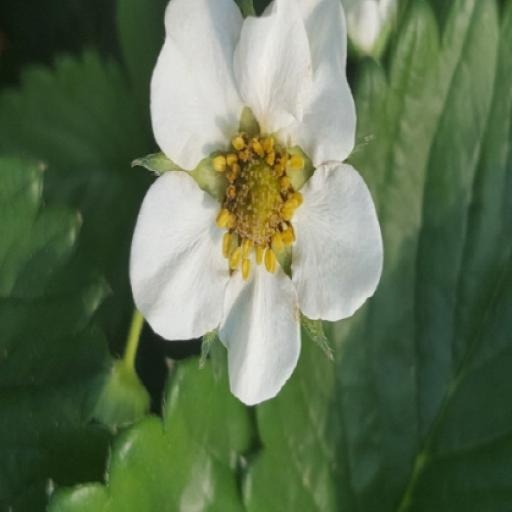Blossom Blight: (202, 228, 307, 382)
